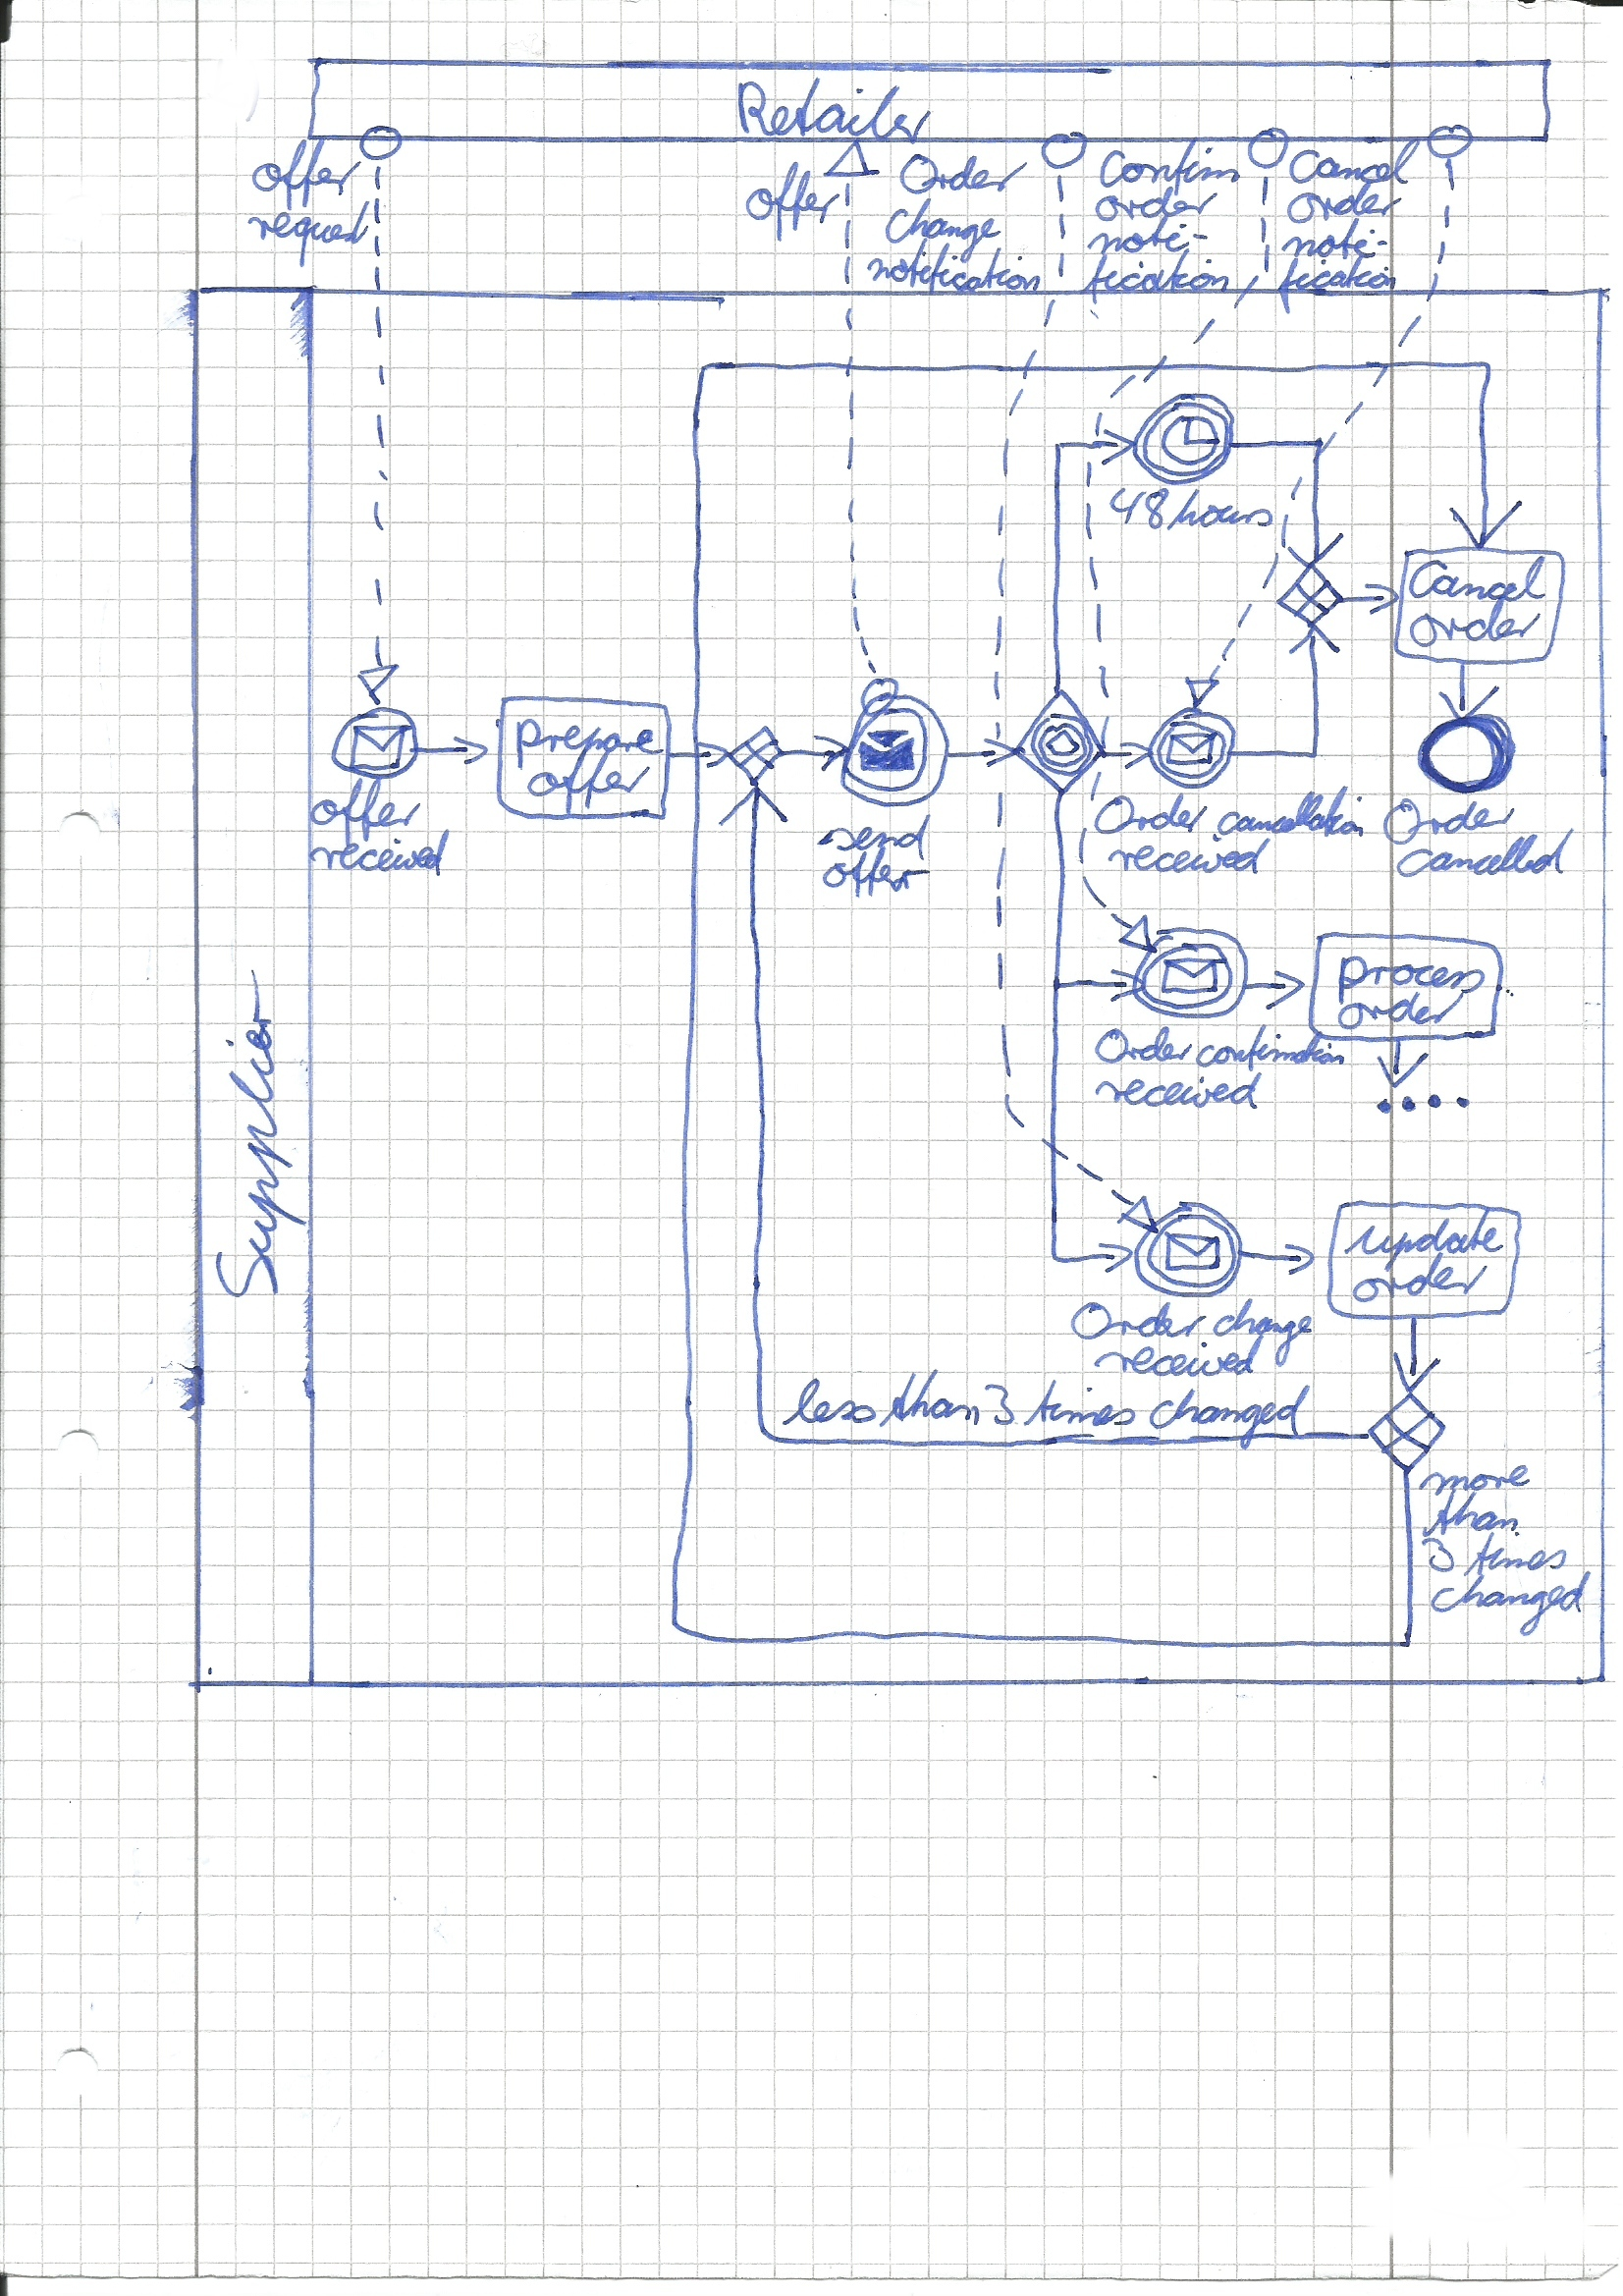3: (980, 1374, 1019, 1430), (1421, 1535, 1456, 1569)
48: (1112, 487, 1166, 536)
Cancel: (1405, 553, 1563, 608), (1289, 146, 1428, 179)
Cancelled: (1396, 827, 1572, 885)
Confirm: (1103, 144, 1240, 193)
Order: (898, 141, 1022, 195), (1087, 789, 1210, 836), (1086, 1296, 1201, 1346), (1101, 1026, 1184, 1072)
Process: (1338, 957, 1486, 1003)
Retailer: (736, 79, 934, 139)
Supplier: (211, 973, 290, 1296)
cancellation: (1212, 792, 1388, 843)
change: (878, 195, 1012, 255), (1208, 1302, 1310, 1347)
changed: (1143, 1383, 1319, 1437), (1430, 1570, 1591, 1620)
confirmation: (1189, 1029, 1347, 1075)
fication: (1080, 258, 1233, 300)
hours: (1173, 487, 1275, 538)
less: (783, 1375, 871, 1435)
more: (1417, 1460, 1537, 1495)
note-: (1089, 227, 1210, 253)
noti-fication: (1280, 228, 1396, 300)
notification: (871, 253, 1057, 299)
offer: (731, 165, 840, 235), (529, 750, 653, 808), (256, 135, 357, 202), (314, 785, 423, 836), (824, 852, 929, 896)
order: (1286, 179, 1409, 227), (1398, 792, 1512, 843), (1412, 608, 1539, 650), (1326, 998, 1449, 1035), (1356, 1272, 1484, 1305), (1089, 193, 1219, 220)
prepare: (515, 718, 657, 768)
received: (1112, 840, 1266, 880), (1101, 1075, 1259, 1114), (314, 838, 446, 878), (1098, 1349, 1261, 1381)
request: (251, 206, 376, 244)
send: (820, 819, 926, 850)
than: (880, 1377, 977, 1435), (1428, 1500, 1525, 1542)
times: (1022, 1379, 1135, 1437), (1467, 1535, 1572, 1578)
update: (1352, 1209, 1512, 1263)
